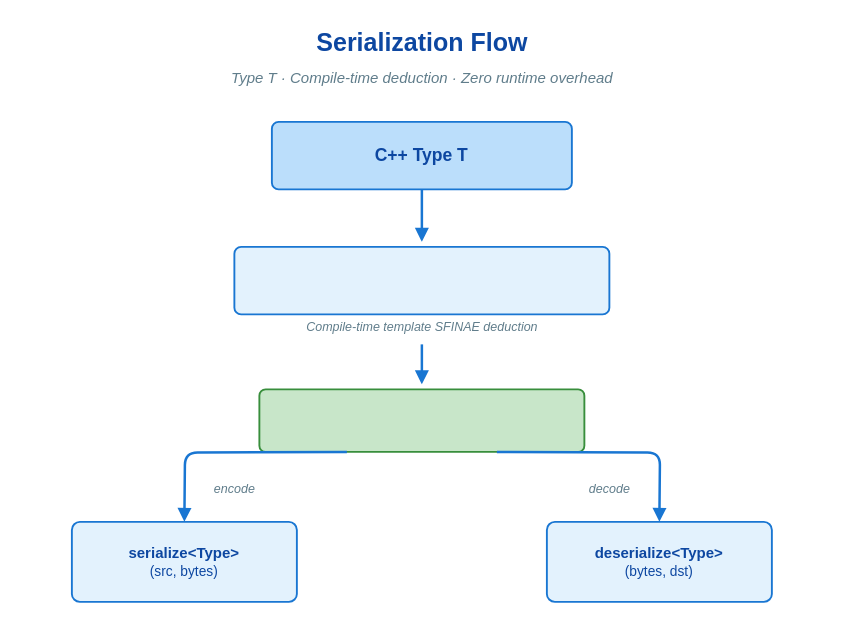
Image size: 843x624. Some labels were removed from this diagram. Here are the shapes that lost their labels. From the top down, the box of each, then its label:
(233, 245, 610, 315): Serializer::get_type_of<T>()
(258, 388, 585, 452): Type Enum (e.g. kProtoType)
